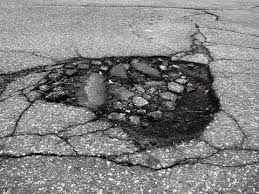pothole: (2, 52, 224, 165)
